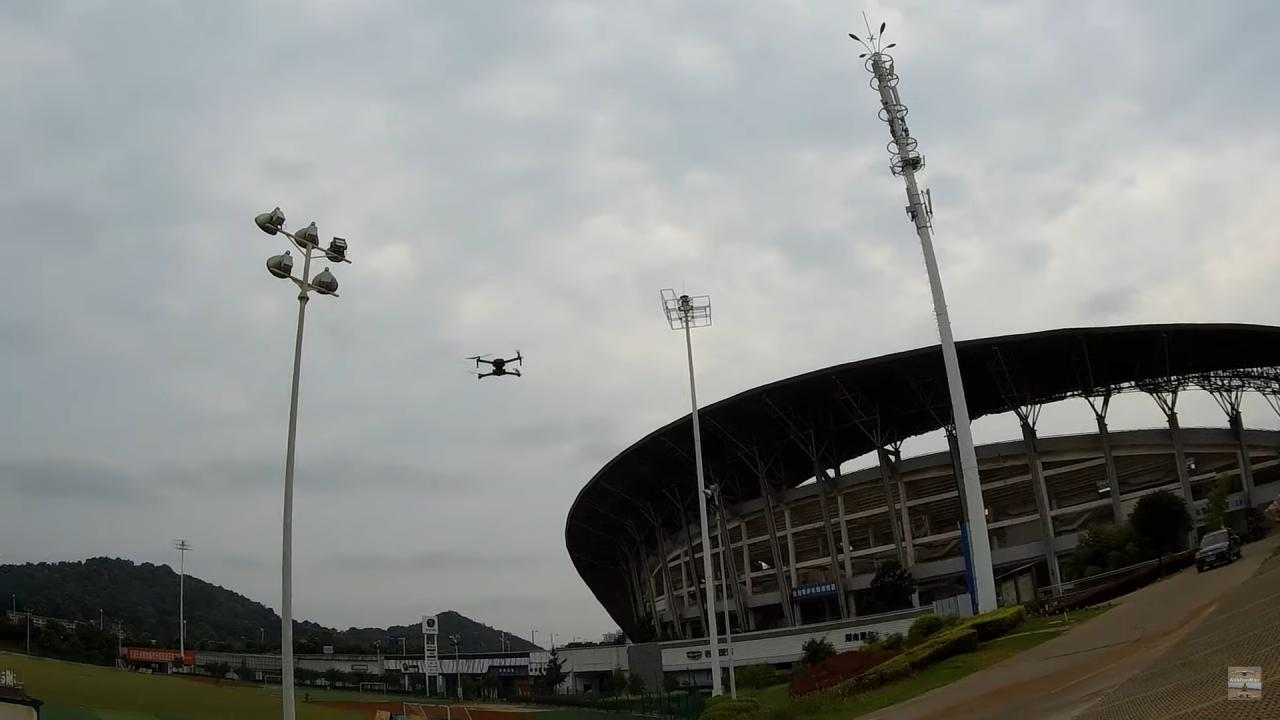Drone: (459, 340, 536, 389)
